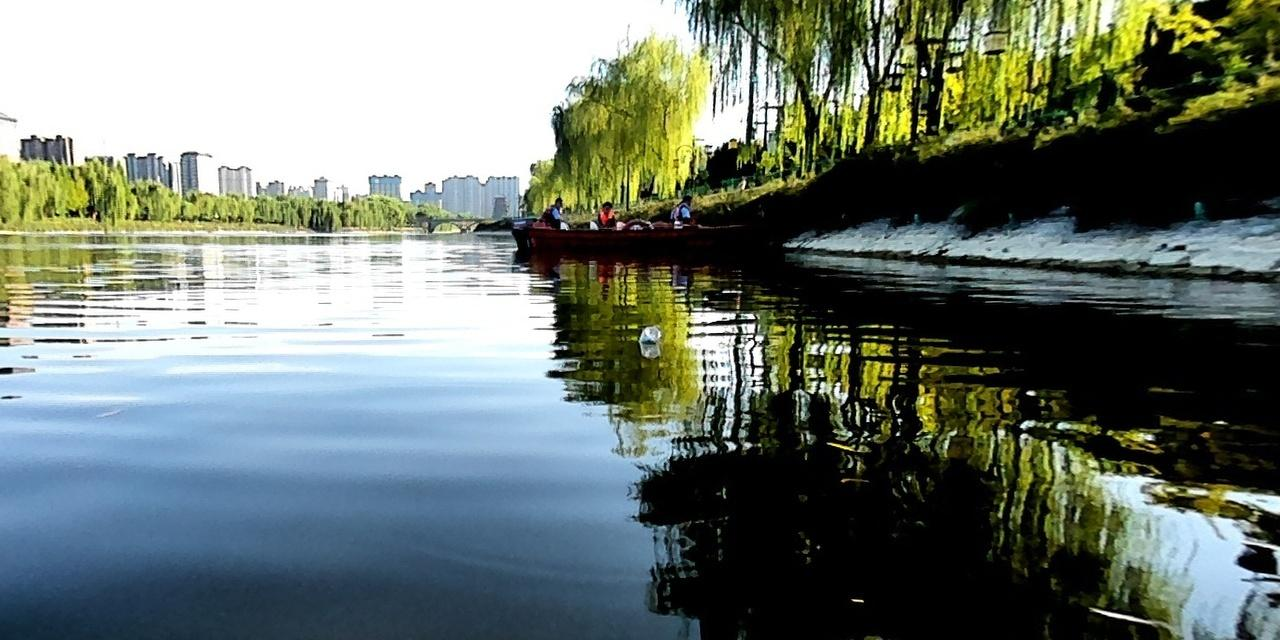bottle: (635, 322, 666, 350)
